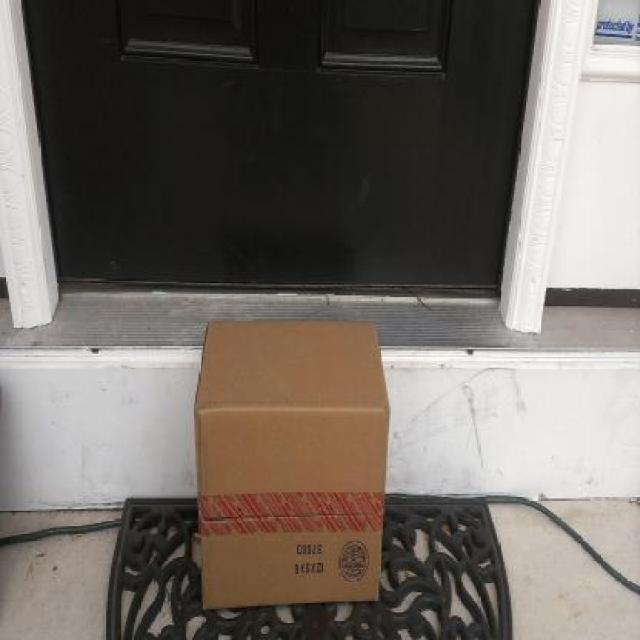box: (193, 317, 389, 608)
